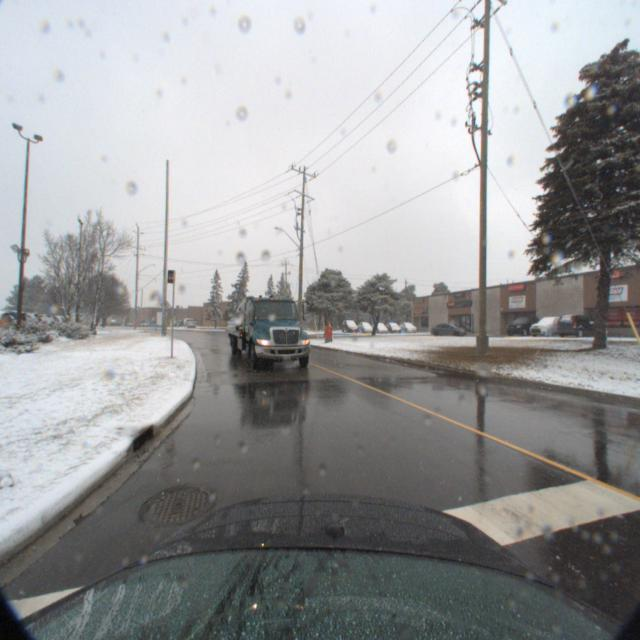Car: (559, 312, 611, 337), (530, 313, 576, 337), (428, 316, 470, 334), (339, 314, 358, 328), (398, 317, 418, 329), (356, 316, 374, 329)
Truck: (215, 273, 319, 371)
